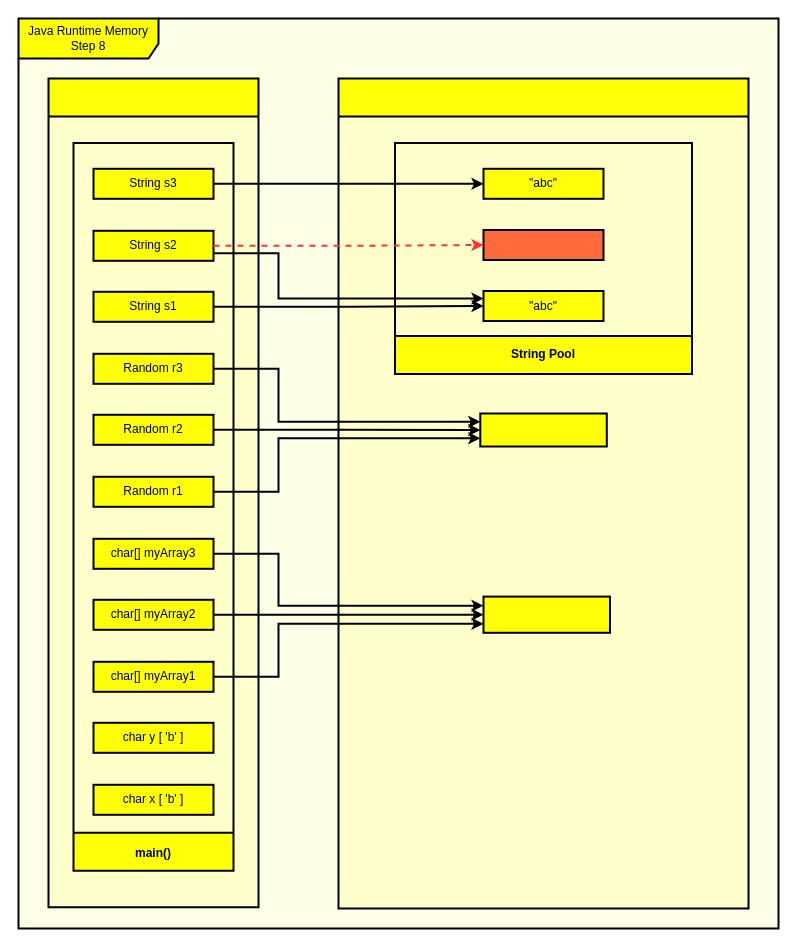
Some shapes in this 796 by 946 pixel diagram are drawn without their labels. Each missing label, with the box of its shape:
"xyz": (482, 228, 604, 260)
Heap Memory: (337, 77, 749, 909)
Random ( 5 ): (479, 412, 607, 447)
Stack Memory: (47, 77, 259, 908)
{ 'a', 'b', 'c', 'd', 'e' }: (482, 595, 610, 633)
